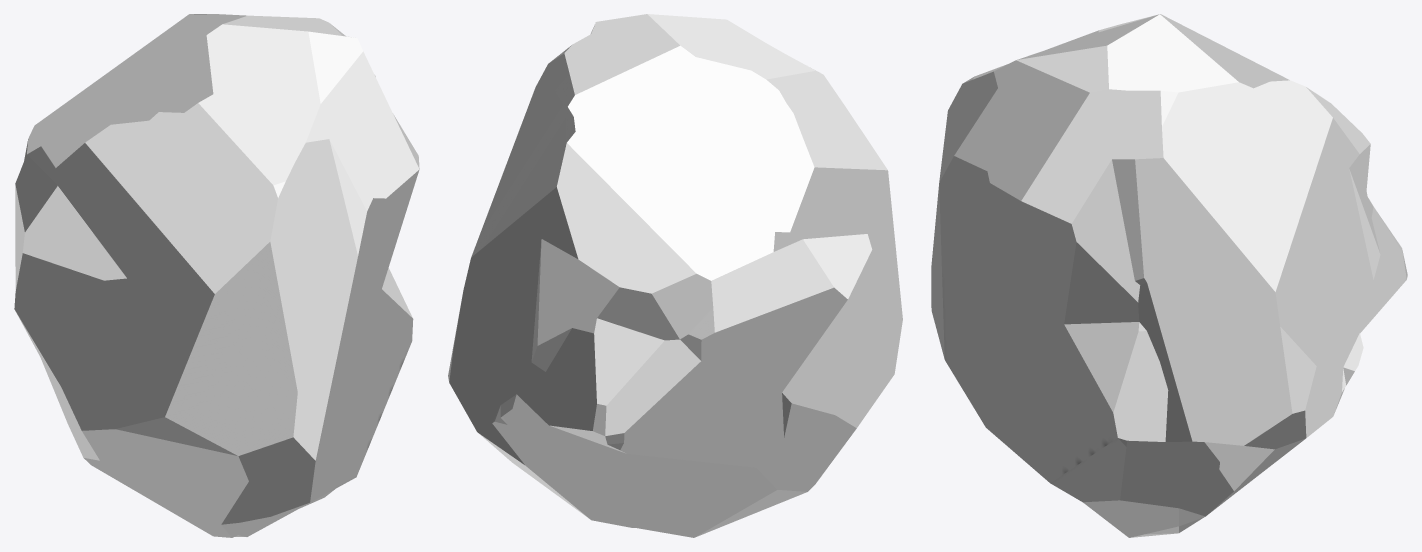
Rendered from BolderRockv2.glb.
3 renders of one model, left to right at view 1: azimuth 30°, elevation 25°; view 2: azimuth 150°, elevation 25°; view 3: azimuth 270°, elevation 25°, orthographic.
Visible parts, largest first — view 1: BolderRock; view 2: BolderRock; view 3: BolderRock.
Part boxes in pixels (box(x1,y1,x2,y2)): BolderRock: box(14, 14, 419, 537); BolderRock: box(448, 14, 902, 537); BolderRock: box(931, 14, 1407, 537).
Size of the model in its own units: 3.86 by 4.98 by 4.36.
1 material, 1 textured.
